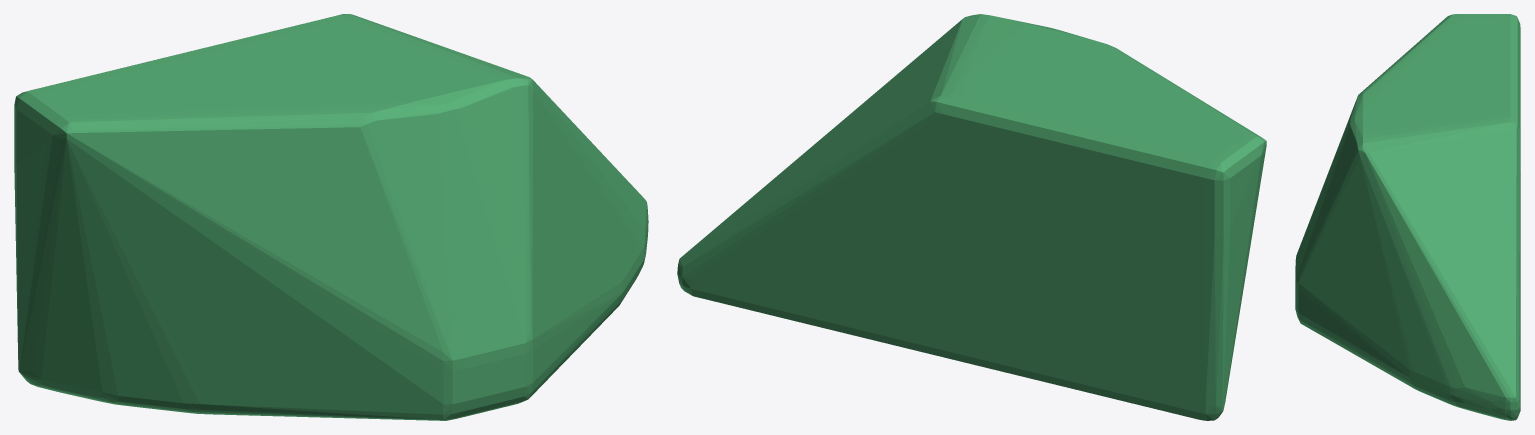
Rendered from left_shoulder_pitch_link_part_3.obj.
The picture shows the model from 3 angles, left to right: view 1: azimuth 30°, elevation 25°; view 2: azimuth 150°, elevation 25°; view 3: azimuth 270°, elevation 25°; orthographic projection. The views are drawn at different scales.
Size of the model in its own units: 0.0599 by 0.0273 by 0.027.
